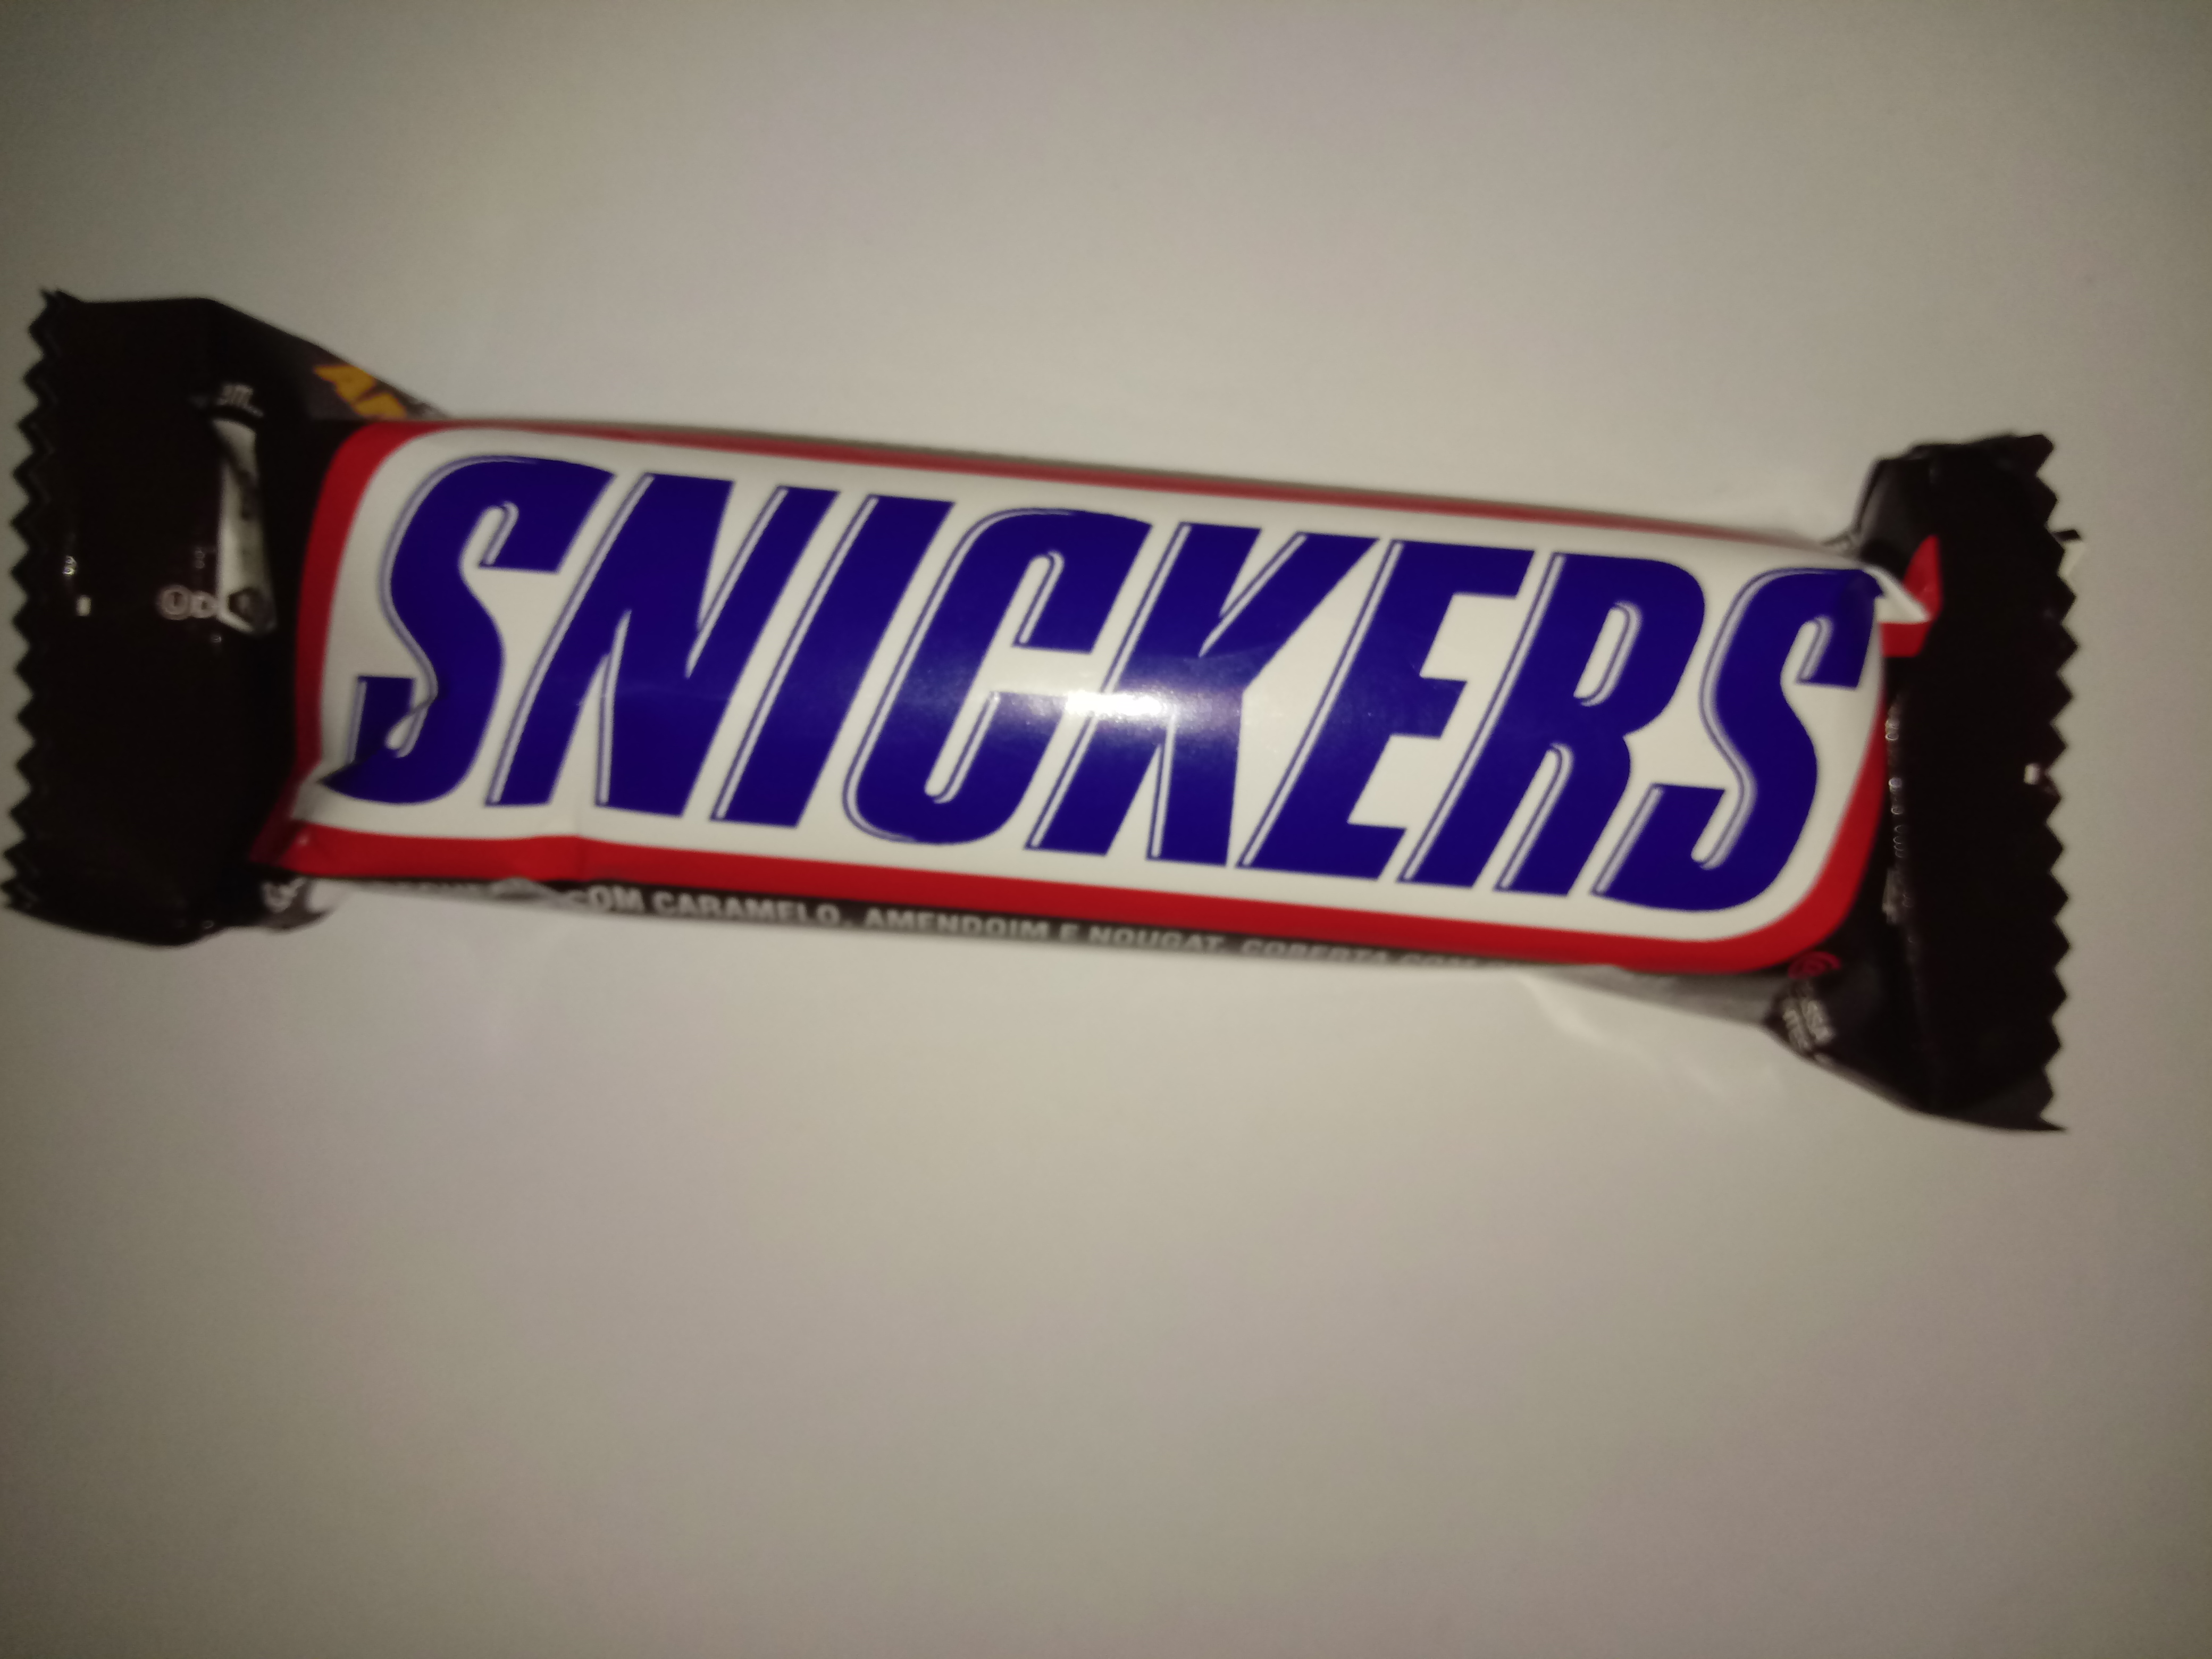snickers: (12, 251, 2107, 1152)
